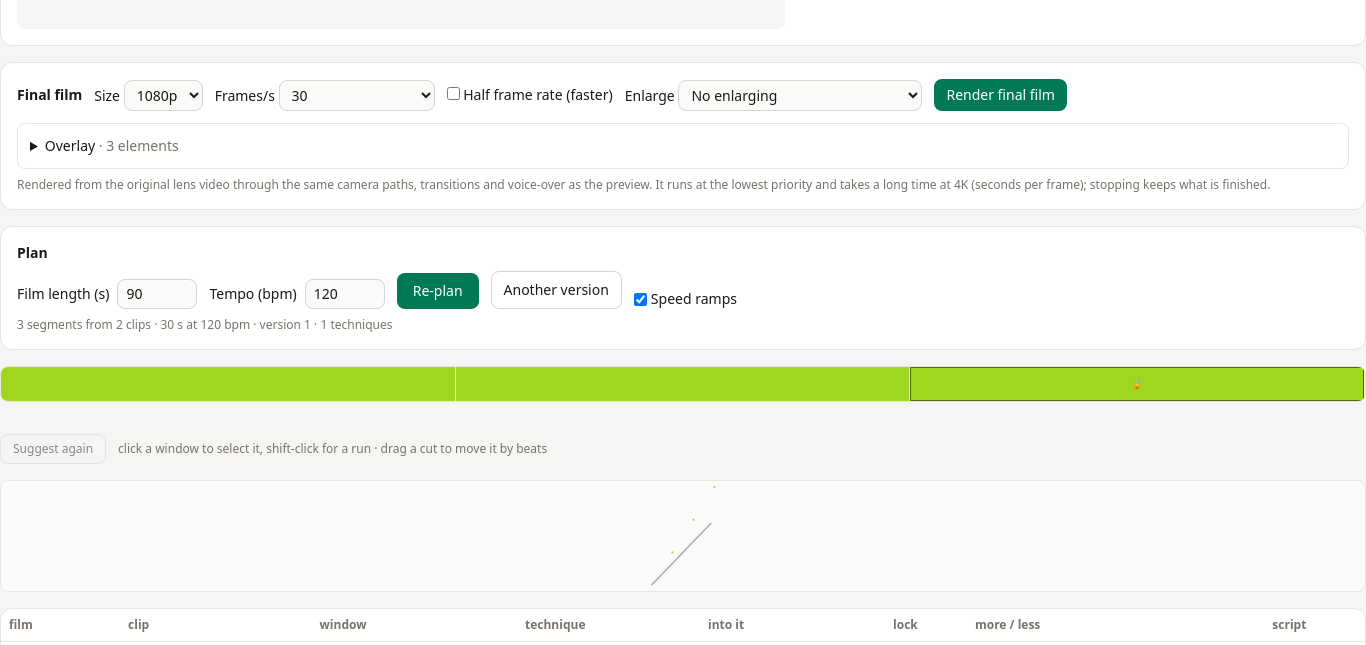
Scenario: Timeline › timeline editing (D1) › shows the server's reason when a suggestion is not possible
(page scrolled)
Click the button titled "0:00.0 1 static" at [228, 384], box top-left (1, 367), bottom-right (456, 401)
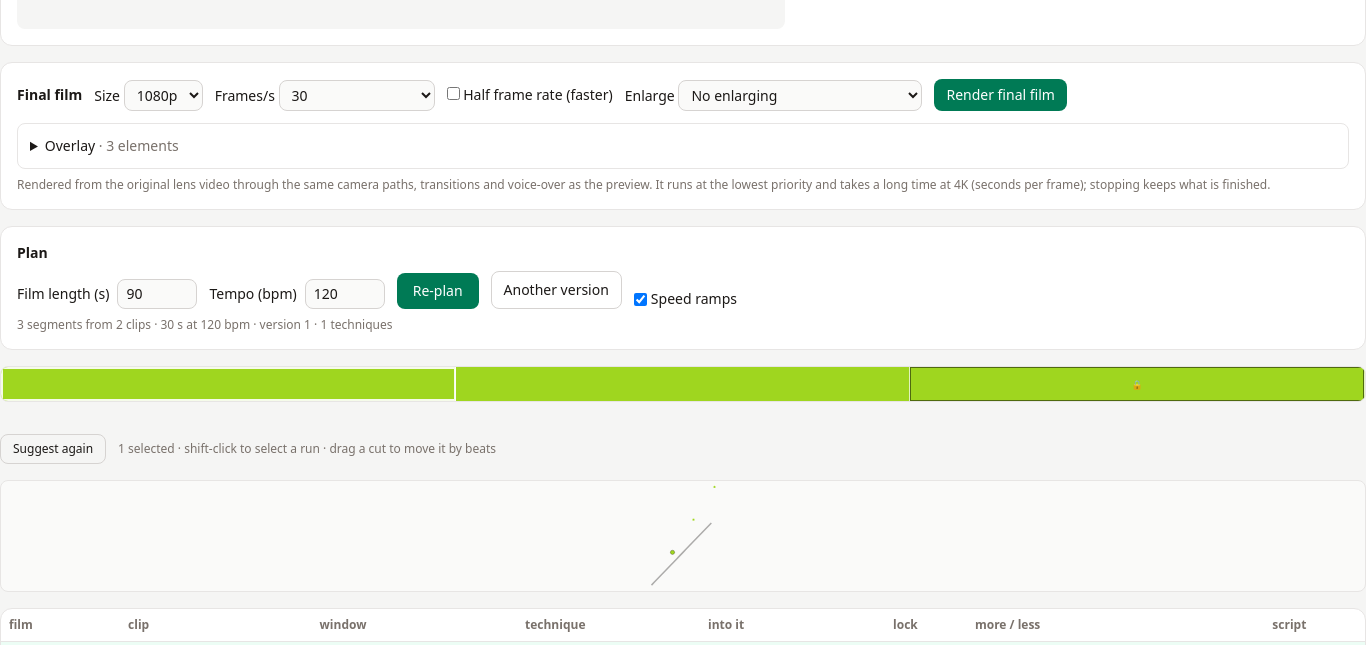
Click the button "Suggest again" at [53, 449], box top-left (0, 434), bottom-right (106, 464)
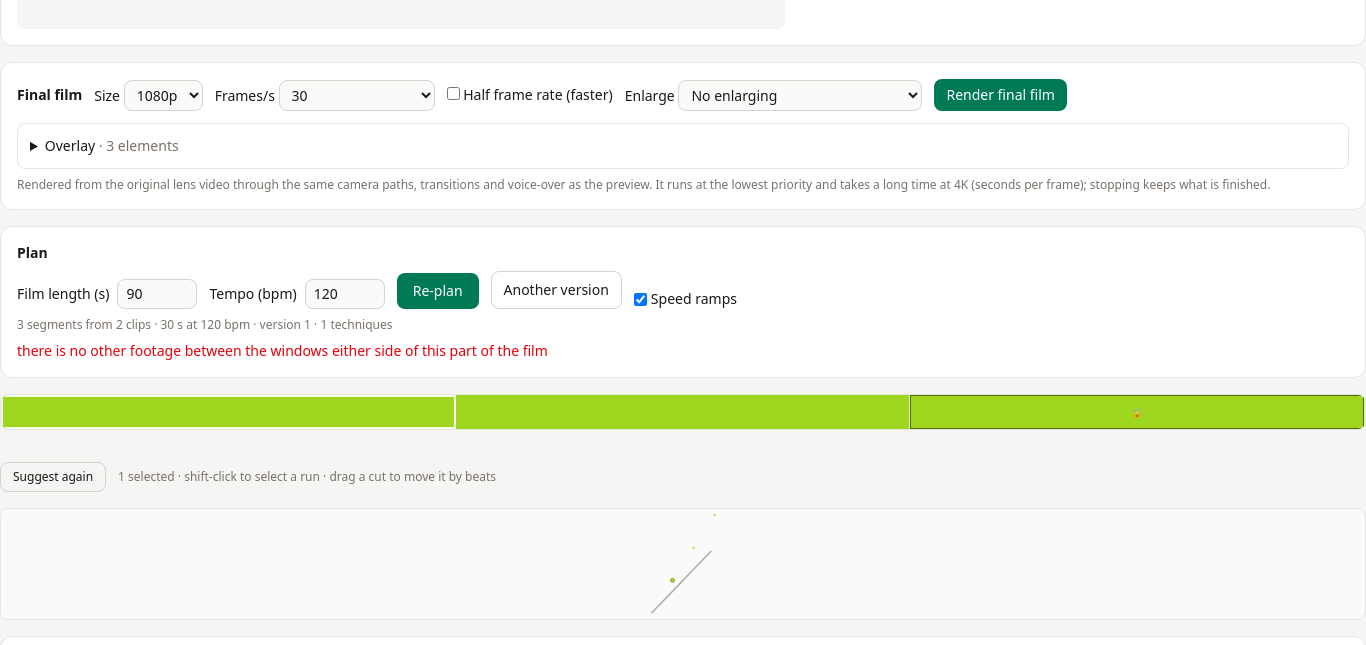
Expected: the text "no other footage" is shown, top-left (17, 341), bottom-right (548, 360)
